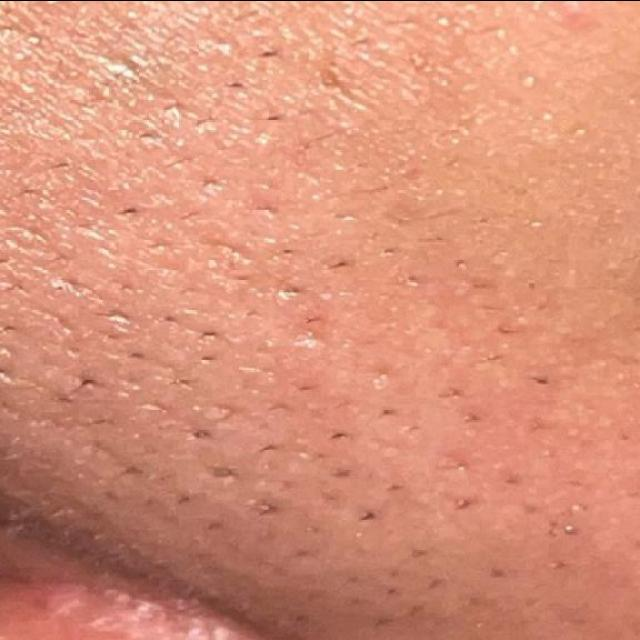blackhead: (8, 150, 577, 574)
